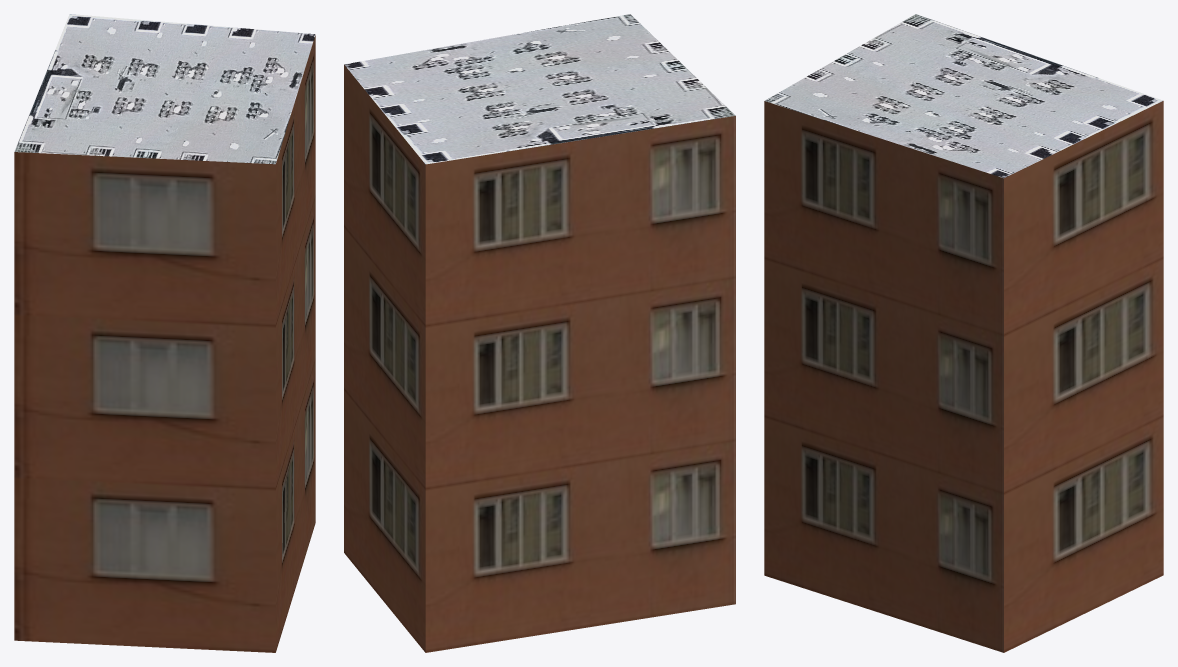
The model's file is ResTex__3175.fbx.
The picture shows the model from 3 angles, left to right: view 1: azimuth 30°, elevation 25°; view 2: azimuth 150°, elevation 25°; view 3: azimuth 270°, elevation 25°; orthographic projection. The views are drawn at different scales.
Parts seen in each view (by area): view 1: CityEngineMaterial_20_m, CityEngineMaterial_4_m; view 2: CityEngineMaterial_20_m, CityEngineMaterial_4_m; view 3: CityEngineMaterial_20_m, CityEngineMaterial_4_m.
Part boxes in pixels (x1=…): CityEngineMaterial_20_m: x1=14, y1=35, x2=315, y2=652; CityEngineMaterial_4_m: x1=14, y1=14, x2=315, y2=164; CityEngineMaterial_20_m: x1=344, y1=65, x2=735, y2=652; CityEngineMaterial_4_m: x1=344, y1=14, x2=735, y2=164; CityEngineMaterial_20_m: x1=764, y1=101, x2=1163, y2=652; CityEngineMaterial_4_m: x1=765, y1=14, x2=1162, y2=178.
Size of the model in its own units: 6.68 by 9 by 6.86.
2 materials, 2 textured.
